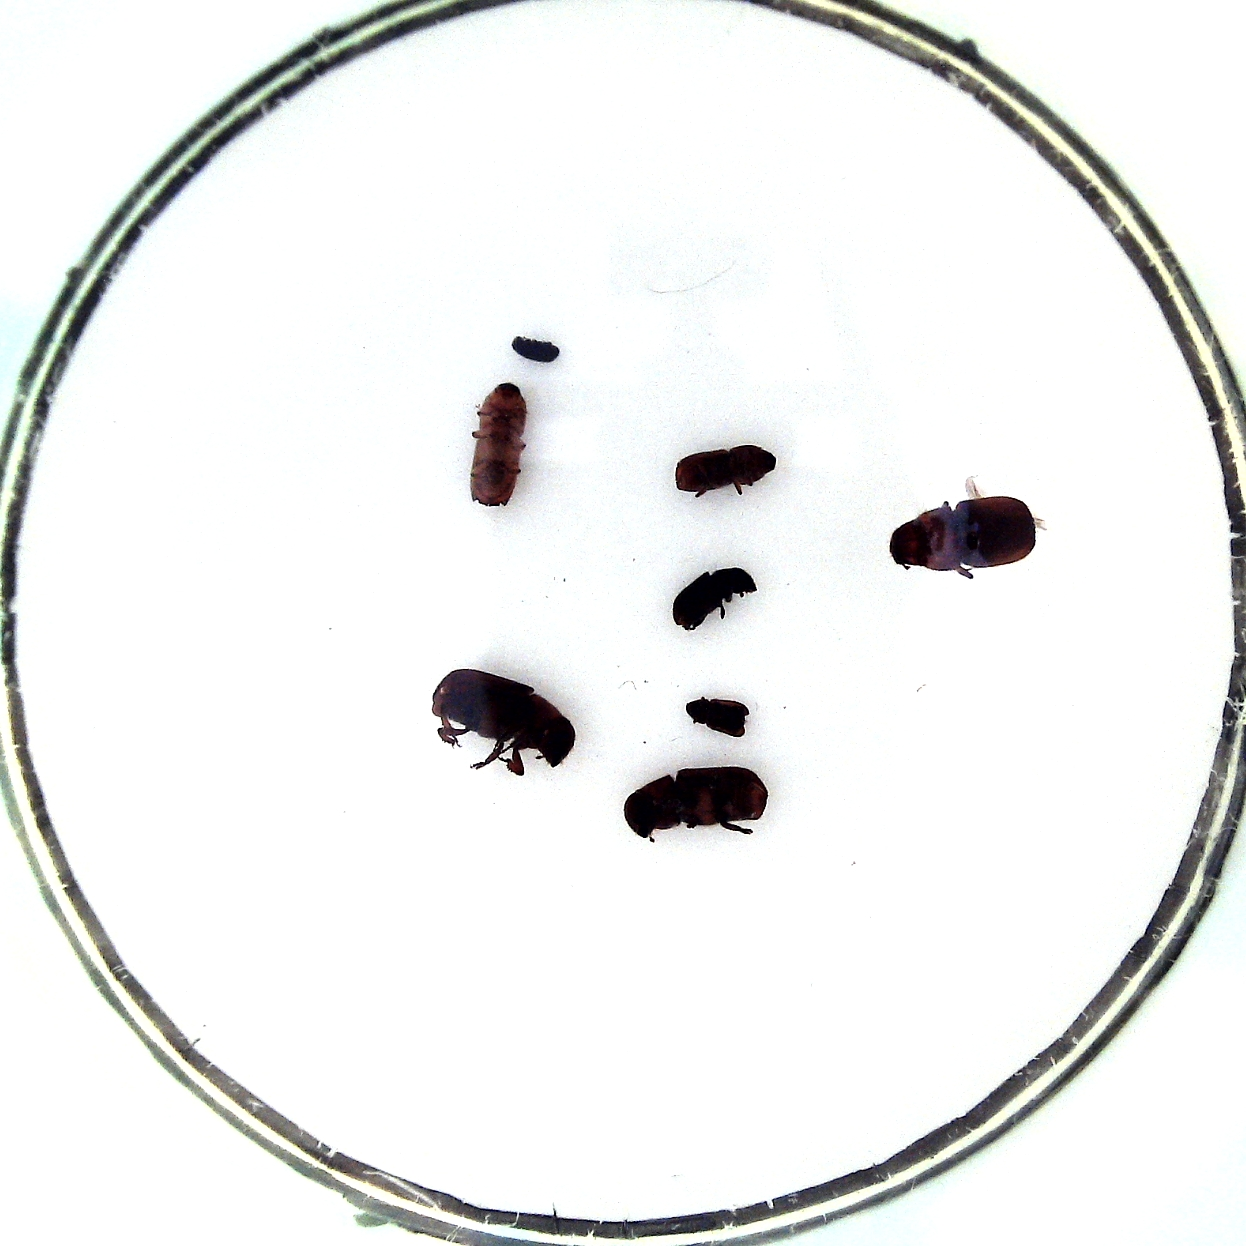Boerner: (469, 382, 526, 507)
Leconte: (430, 669, 575, 767), (622, 766, 768, 838)
acuminatus: (510, 335, 558, 362)
armandi: (672, 567, 756, 628)
coleoptera: (889, 496, 1036, 571), (685, 699, 749, 737)
linnaeus: (675, 444, 777, 493)
